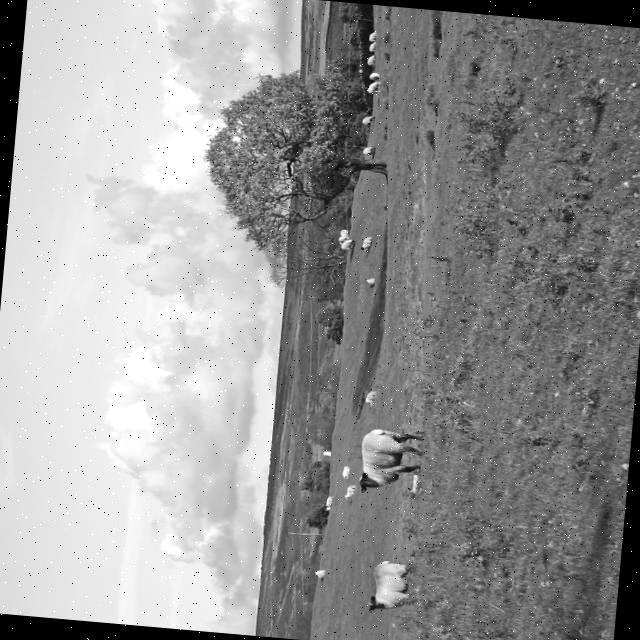sheep: (358, 430, 422, 491), (369, 561, 407, 610)
